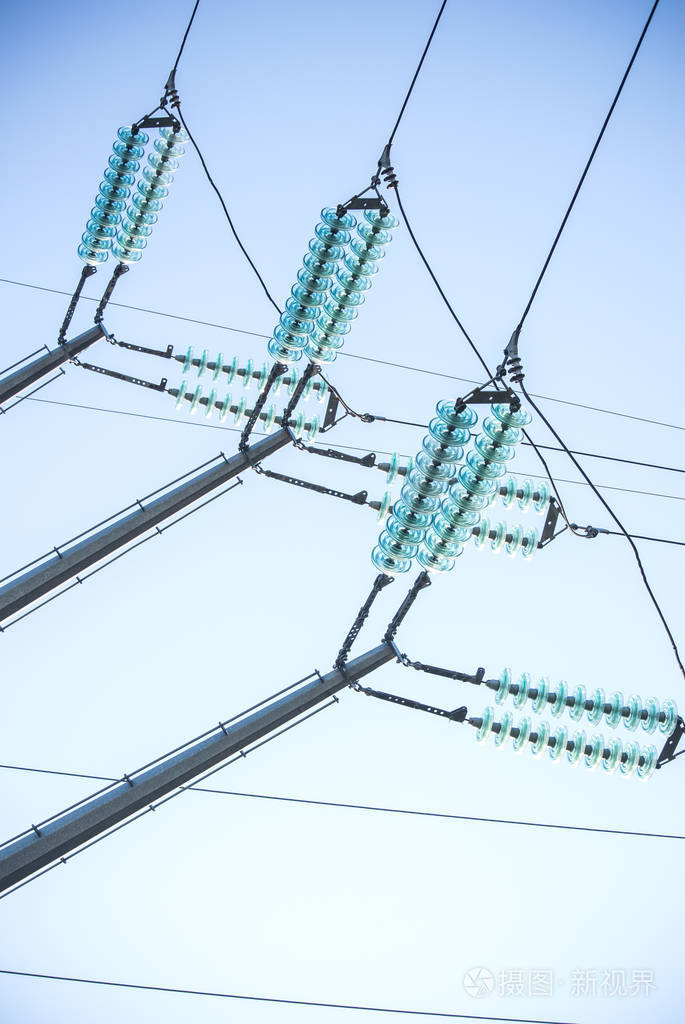insulator: (381, 400, 530, 574), (473, 669, 677, 779), (268, 209, 400, 366), (76, 123, 190, 262), (170, 347, 328, 442), (478, 478, 554, 550)
